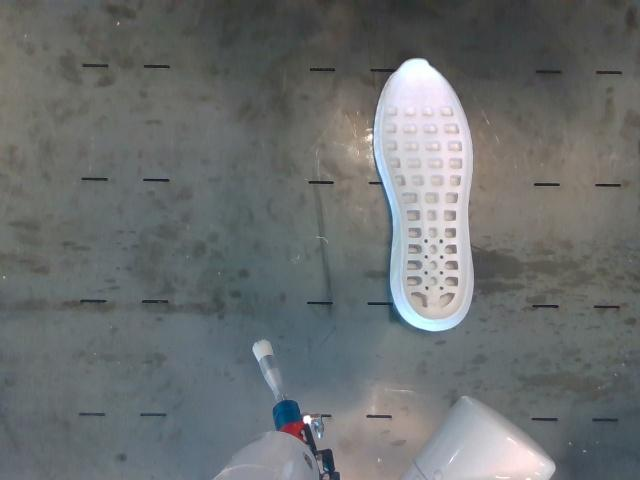shoes: (381, 59, 470, 319)
